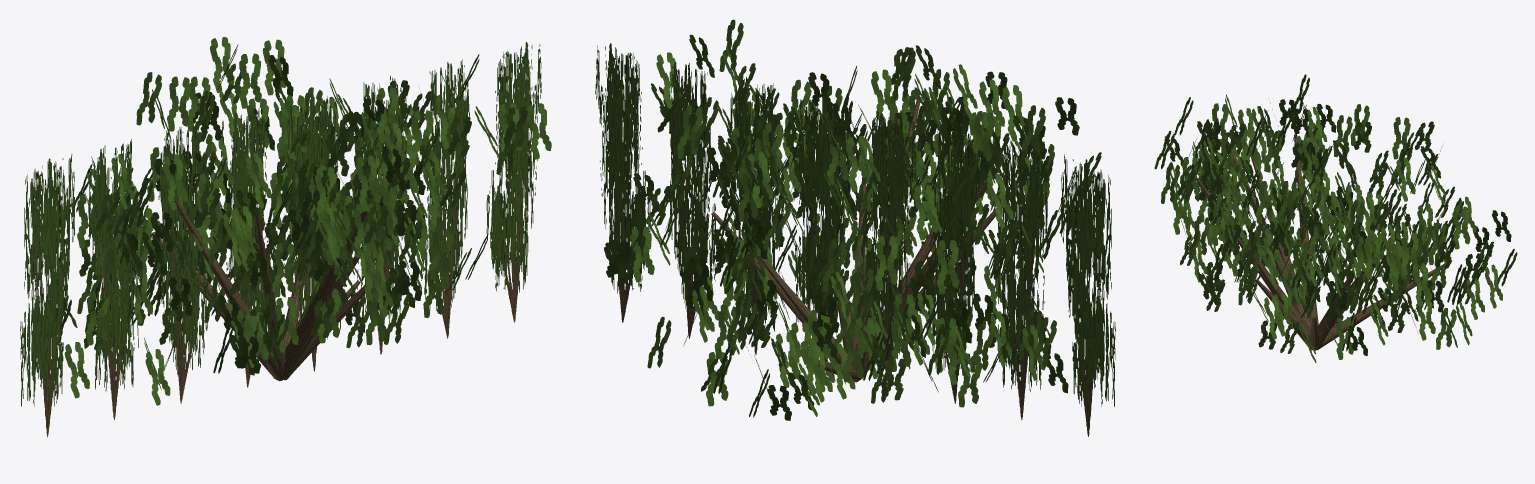
File: bush.glb
3 views of the same model, side by side, from view 1: azimuth 30°, elevation 25°; view 2: azimuth 150°, elevation 25°; view 3: azimuth 270°, elevation 25° (orthographic). The views are drawn at different scales.
Parts seen in each view (by area): view 1: foliage-lod0, eight-view-impostor, bark-lod0; view 2: foliage-lod0, eight-view-impostor, bark-lod0; view 3: foliage-lod0, bark-lod0.
Boxes of the visible parts, x1=… form: foliage-lod0: x1=29, y1=37, x2=551, y2=405; eight-view-impostor: x1=20, y1=42, x2=541, y2=437; bark-lod0: x1=152, y1=199, x2=386, y2=381; foliage-lod0: x1=604, y1=19, x2=1101, y2=420; eight-view-impostor: x1=595, y1=43, x2=1115, y2=436; bark-lod0: x1=711, y1=97, x2=1010, y2=382; foliage-lod0: x1=1154, y1=74, x2=1517, y2=362; bark-lod0: x1=1195, y1=134, x2=1442, y2=350.
Size of what is drawn, in the model's own units: 3.6 by 2.1 by 2.79.
